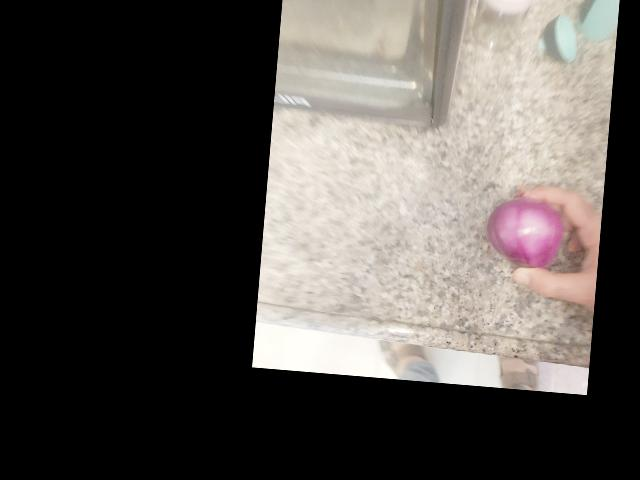onion: (268, 143, 353, 233)
